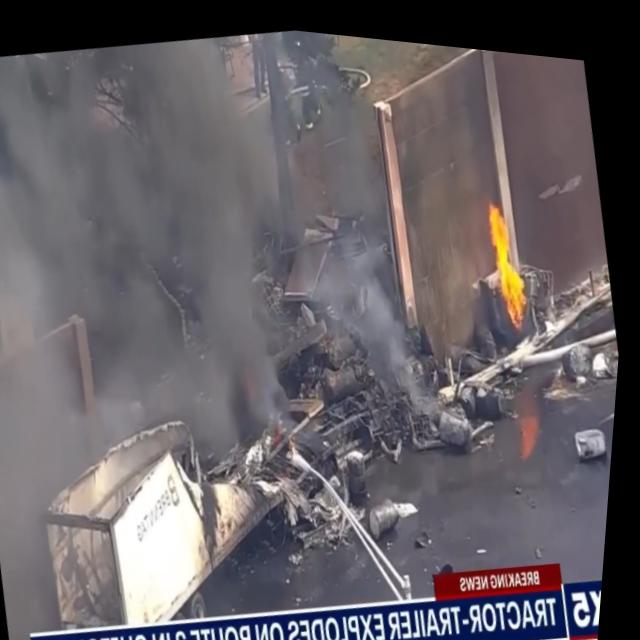Fire: (475, 187, 543, 325)
